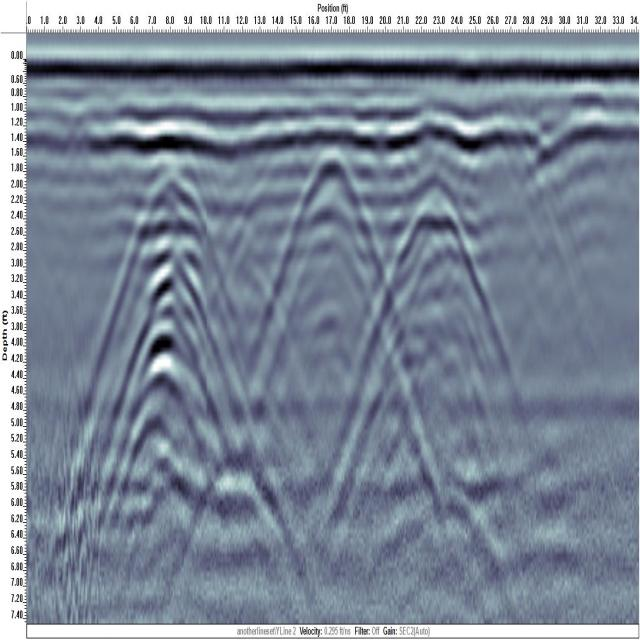hyperbola: (274, 145, 391, 347), (382, 178, 494, 379)
